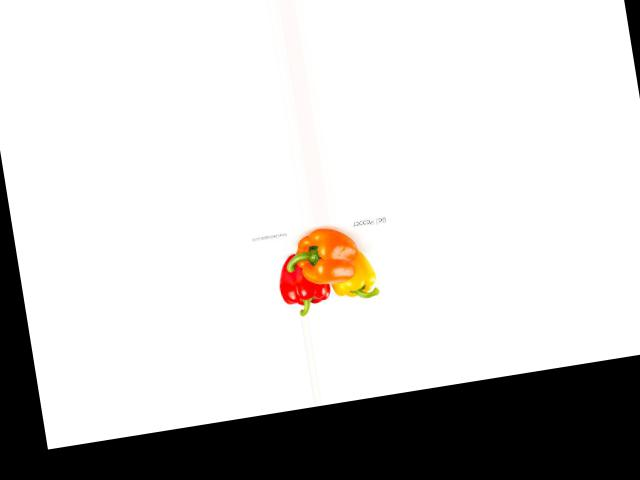bell_pepper: (324, 246, 382, 306)
